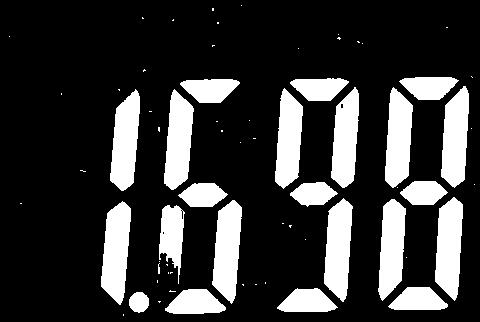1: (100, 83, 142, 313)
6: (154, 76, 247, 316)
8: (379, 73, 471, 313)
9: (272, 73, 362, 314)
dot: (127, 289, 152, 317)
